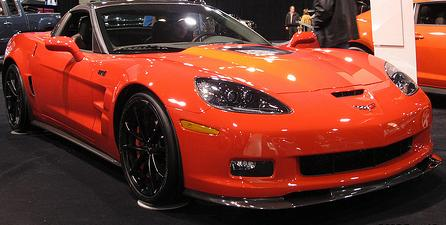front_view: (172, 58, 440, 212)
headlight: (191, 68, 295, 118)
side_glass: (48, 5, 95, 54)
